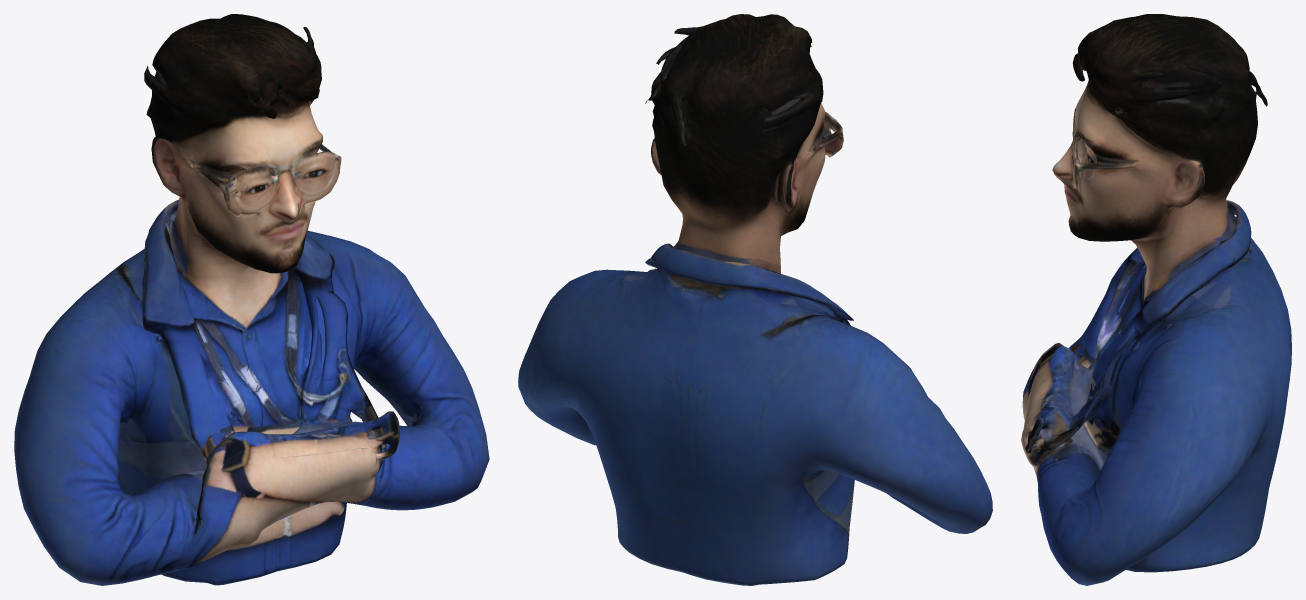
File: result.gltf
The picture shows the model from 3 angles, left to right: view 1: azimuth 30°, elevation 25°; view 2: azimuth 150°, elevation 25°; view 3: azimuth 270°, elevation 25°; orthographic projection. The views are drawn at different scales.
Visible parts, largest first — view 1: nodes[0]; view 2: nodes[0]; view 3: nodes[0].
Boxes of the visible parts, x1,y1,x2,y2 form: nodes[0]: [14, 14, 489, 585]; nodes[0]: [518, 14, 992, 585]; nodes[0]: [1021, 14, 1291, 585].
Bounding box in the file's own units: 1.75 × 1.99 × 0.9563.
Materials: 1 (1 with a texture image).
